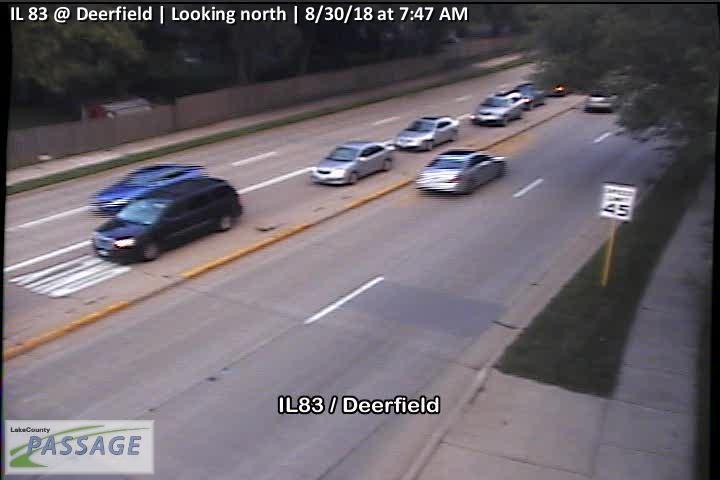SUV: (90, 178, 244, 265)
Sedan: (88, 164, 208, 215), (412, 149, 507, 195), (310, 141, 393, 186), (393, 117, 460, 154), (469, 95, 522, 129)
